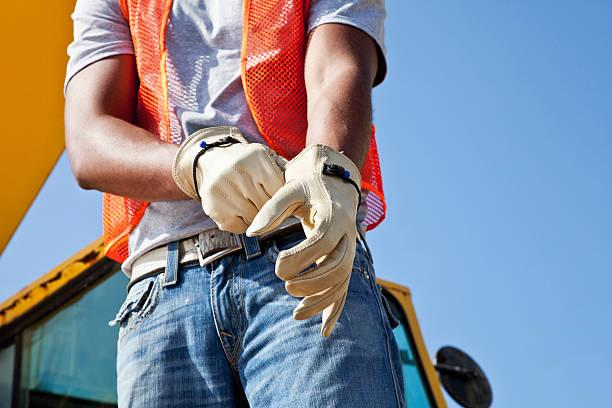luva: (281, 139, 358, 349), (164, 121, 285, 233)
